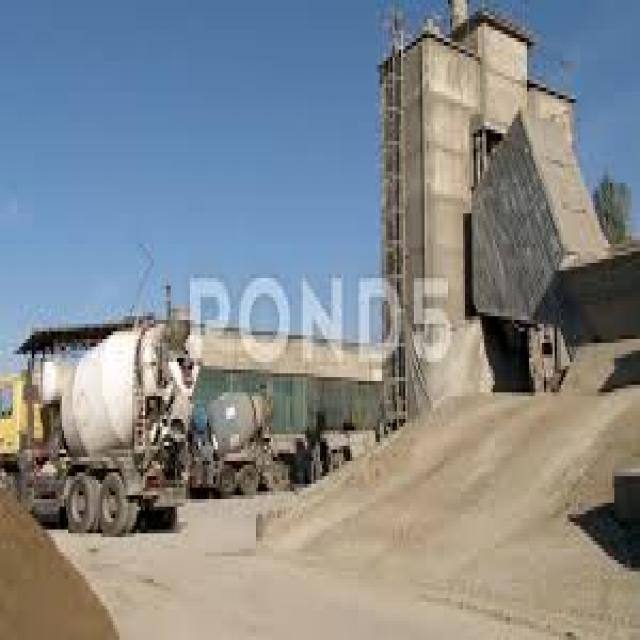Mixer Truck: (0, 311, 202, 536), (180, 388, 276, 502)
